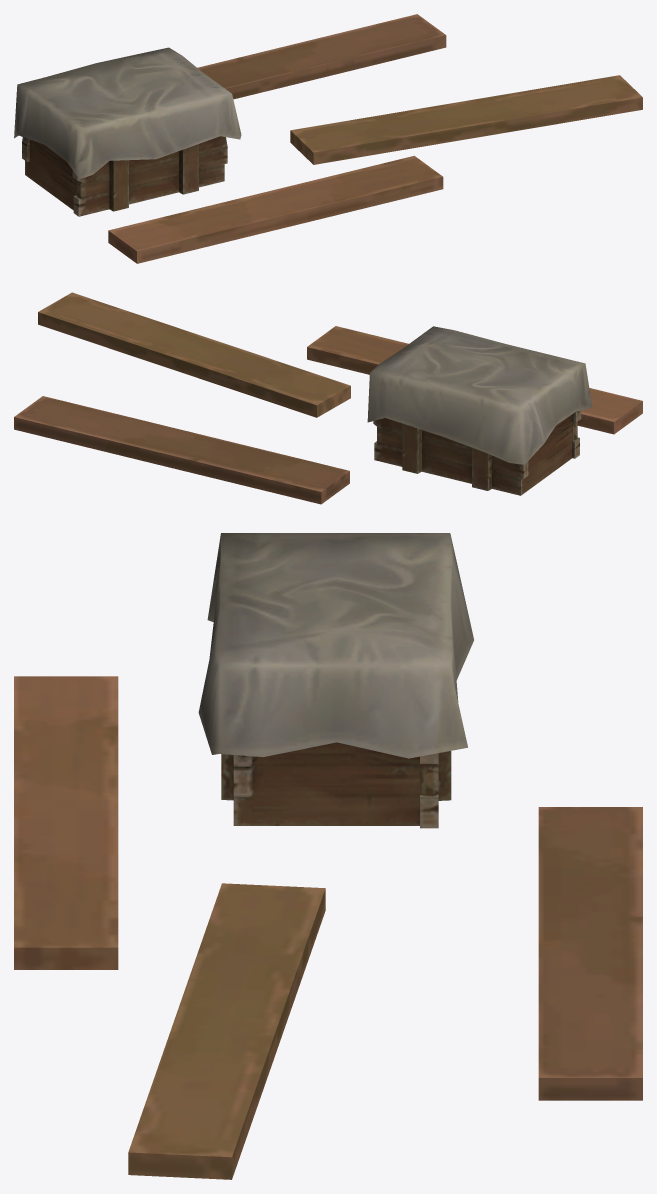
The model's file is 破箱子.fbx.
3 views of the same model, one above another, from view 1: azimuth 30°, elevation 25°; view 2: azimuth 150°, elevation 25°; view 3: azimuth 270°, elevation 25° (orthographic). The views are drawn at different scales.
Parts seen in each view (by area): view 1: S_BG_ArkLobby_box_e_01, Object003, Object004, Object002; view 2: S_BG_ArkLobby_box_e_01, Object002, Object003, Object004; view 3: S_BG_ArkLobby_box_e_01, Object003, Object002, Object004.
Boxes of the visible parts, <box> form: S_BG_ArkLobby_box_e_01: <box>14,47,241,216</box>; Object003: <box>290,75,642,164</box>; Object004: <box>108,155,443,263</box>; Object002: <box>197,14,446,99</box>; S_BG_ArkLobby_box_e_01: <box>367,326,592,495</box>; Object002: <box>14,396,349,504</box>; Object003: <box>38,292,350,417</box>; Object004: <box>307,326,642,434</box>; S_BG_ArkLobby_box_e_01: <box>198,533,473,828</box>; Object003: <box>128,883,325,1179</box>; Object002: <box>538,807,642,1100</box>; Object004: <box>14,676,118,969</box>.
Size of the model in its own units: 424 by 73.76 by 230.
